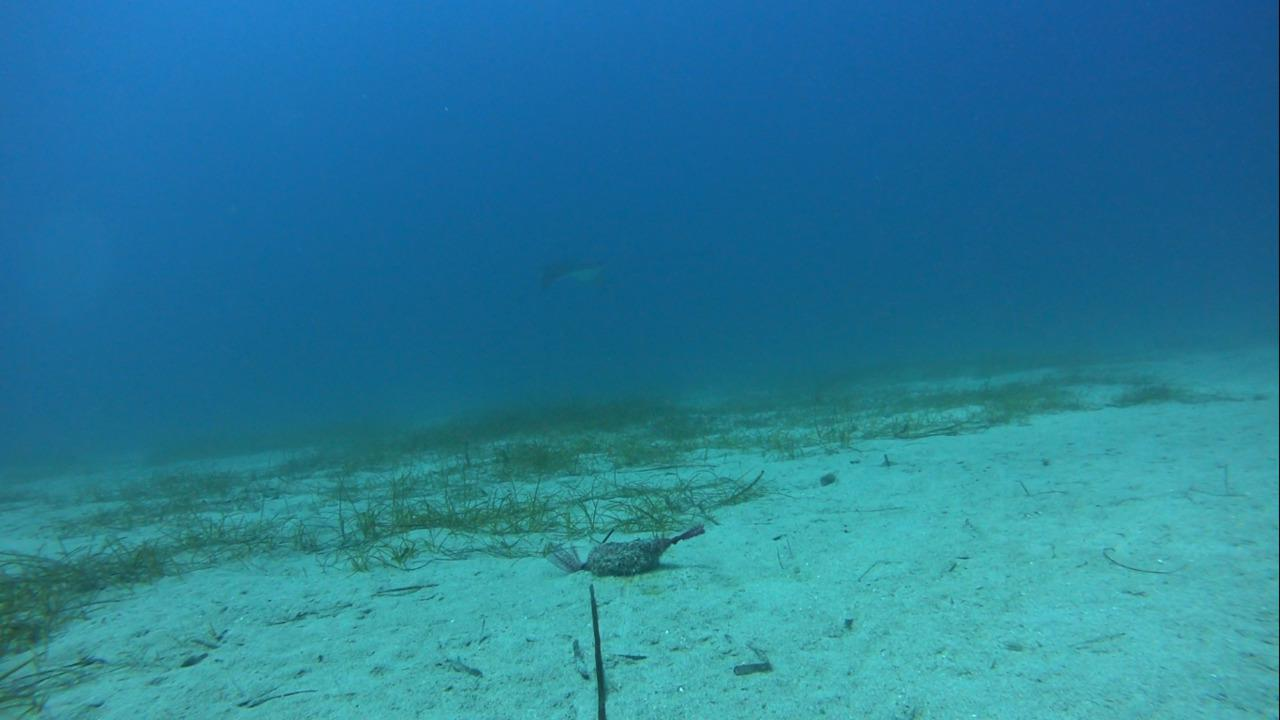myliobatis: (528, 236, 677, 294)
